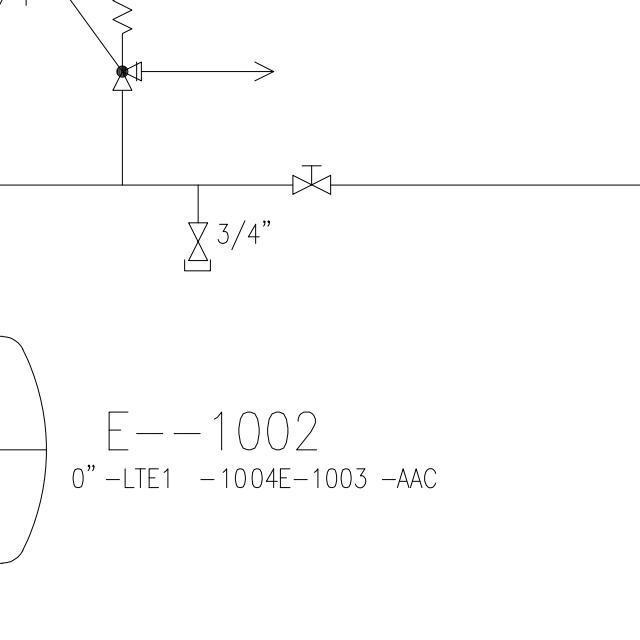EC: (179, 187, 214, 277)
GV: (186, 217, 208, 265)
HV: (287, 160, 334, 198)
RPV: (110, 0, 144, 100)
